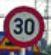Gioi han toc do: (3, 4, 45, 48)
